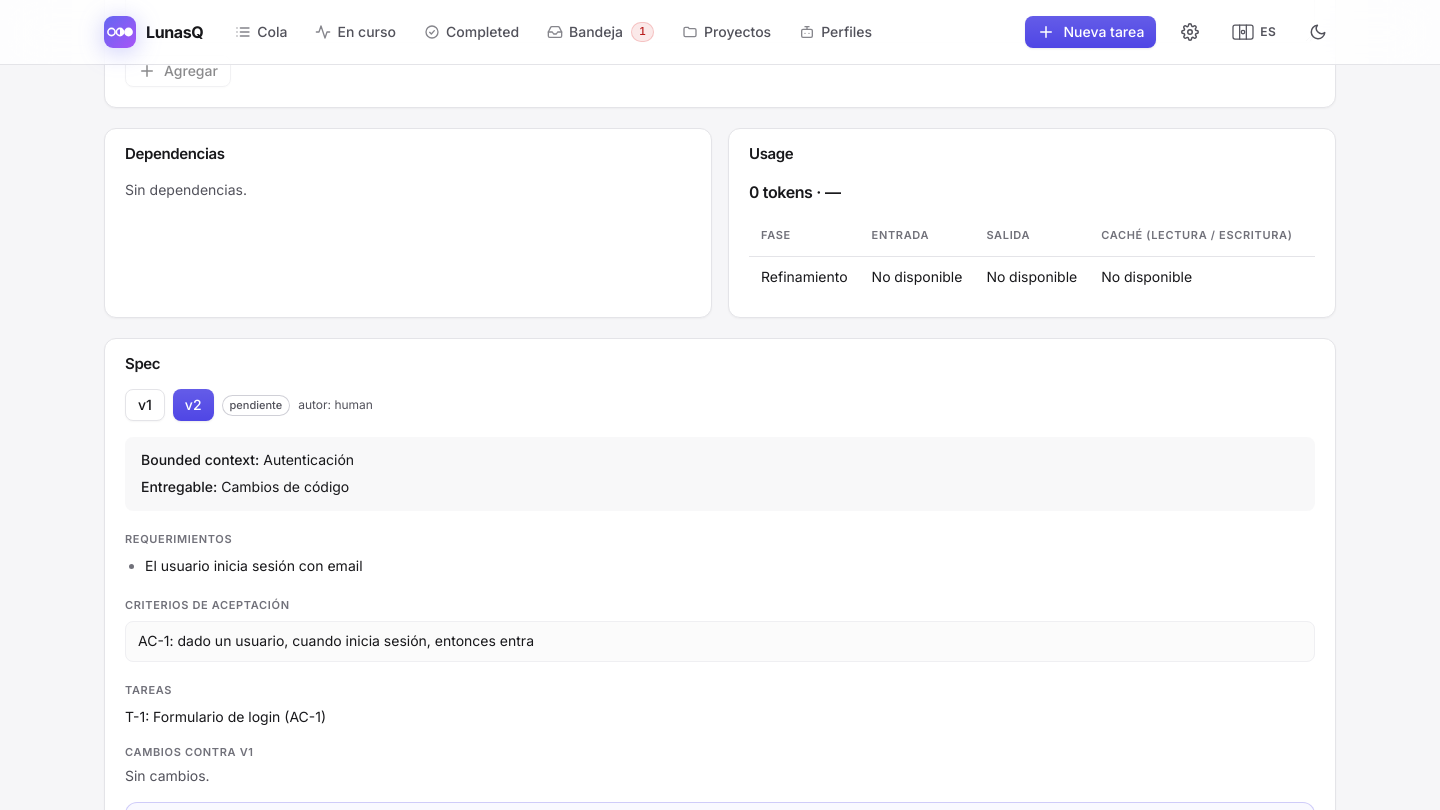
it: Spec panel › shows the badge of the refine Run's profile on an agent version and none on a human one
(page scrolled)
Expected: the text "autor: human" is shown, [298,397,373,413]
What coordinates should you click on to do the following:
click the button "v1"
I would click on:
 (145, 405)
Its box is [125,389,165,421].
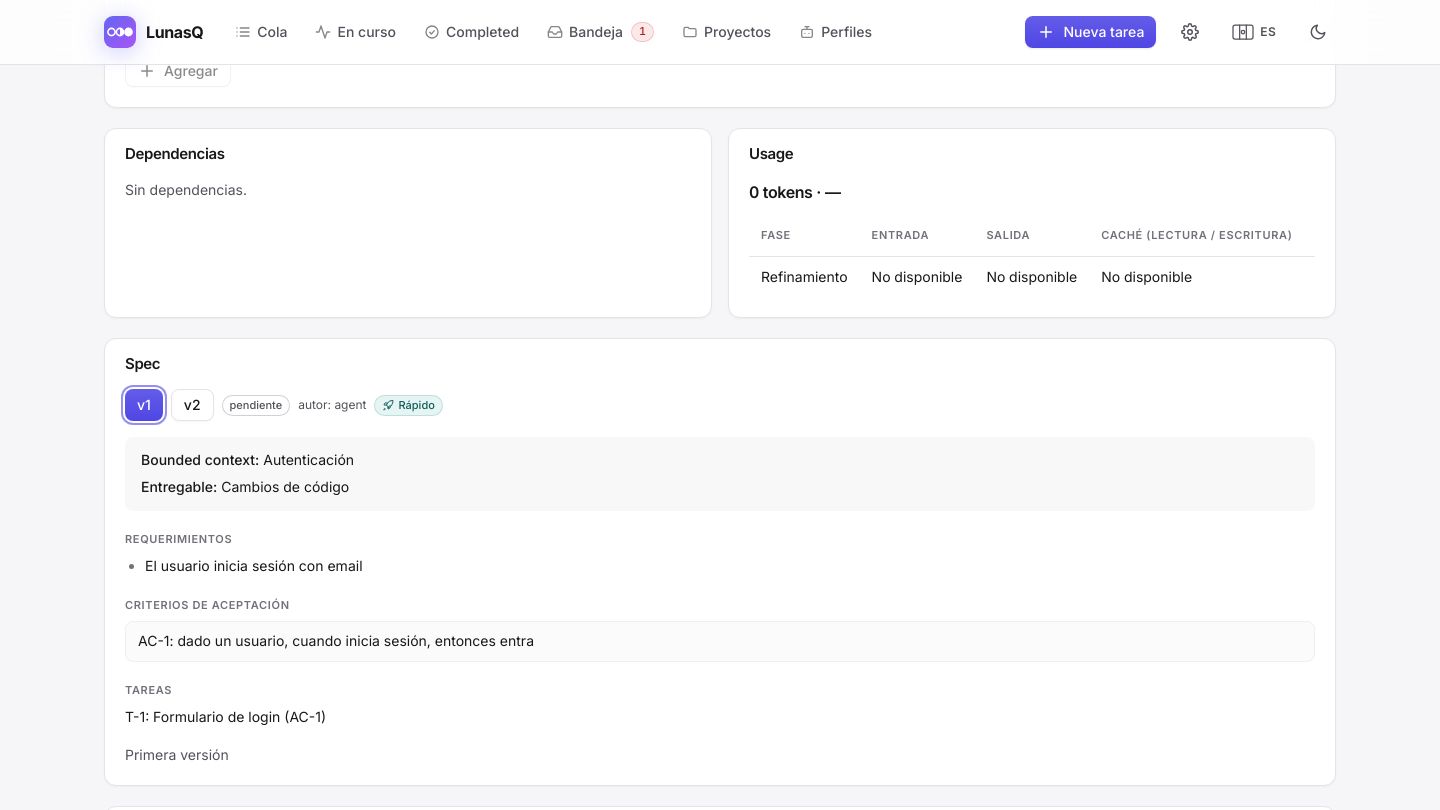
Expected: the picture named "Agente Rápido" is shown, [374,395,443,416]
